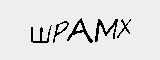А: (69, 17, 92, 46)
М: (95, 19, 121, 42)
Р: (53, 19, 69, 42)
Х: (117, 19, 133, 39)
Ш: (30, 22, 52, 44)
